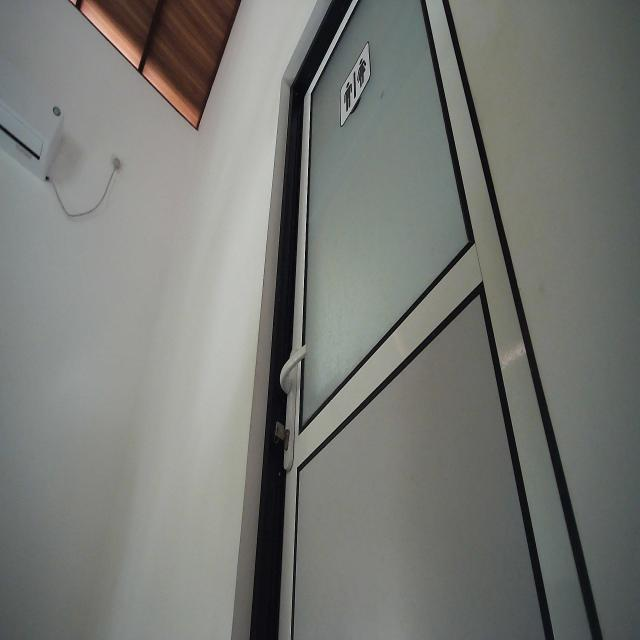restroom: (338, 41, 373, 130)
